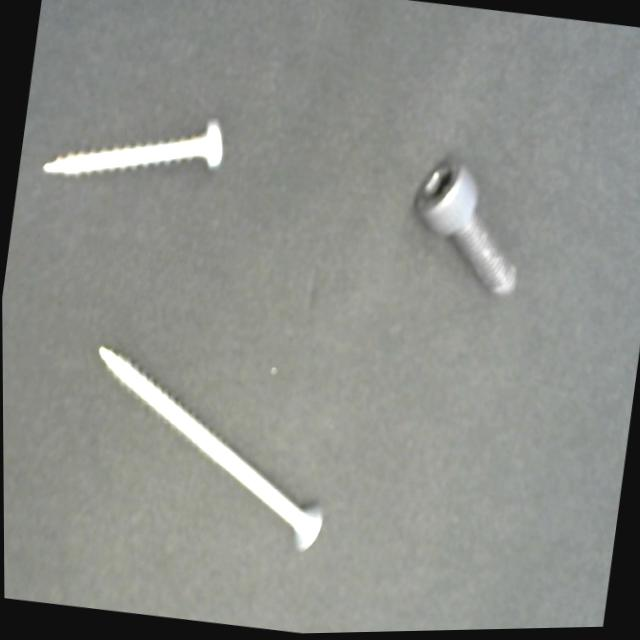SheetMetalScrew: (35, 87, 242, 217)
SocketHeadCapScrew: (399, 148, 542, 312)
WoodScrew: (67, 326, 354, 567)
